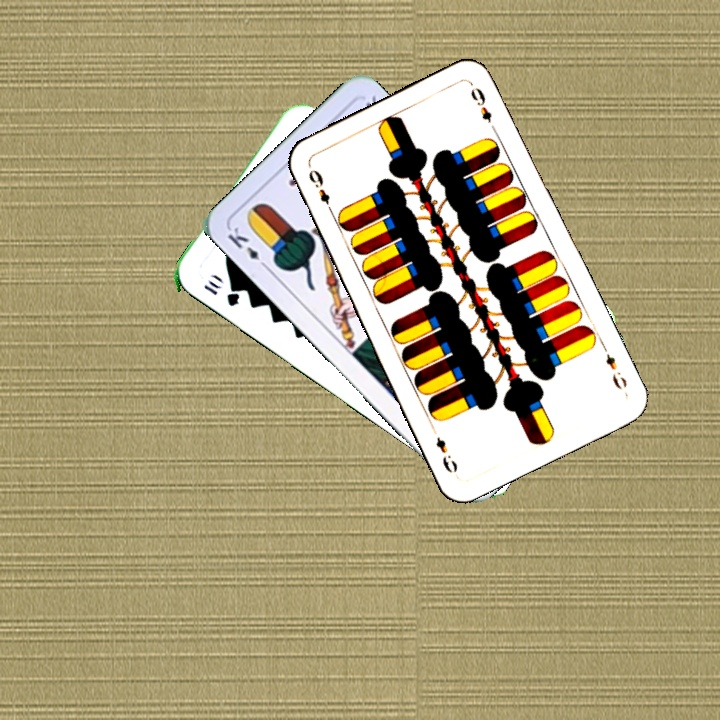E9: (304, 165, 336, 217), (598, 341, 630, 392)
EK: (223, 222, 272, 273)
G10: (199, 276, 243, 309)
